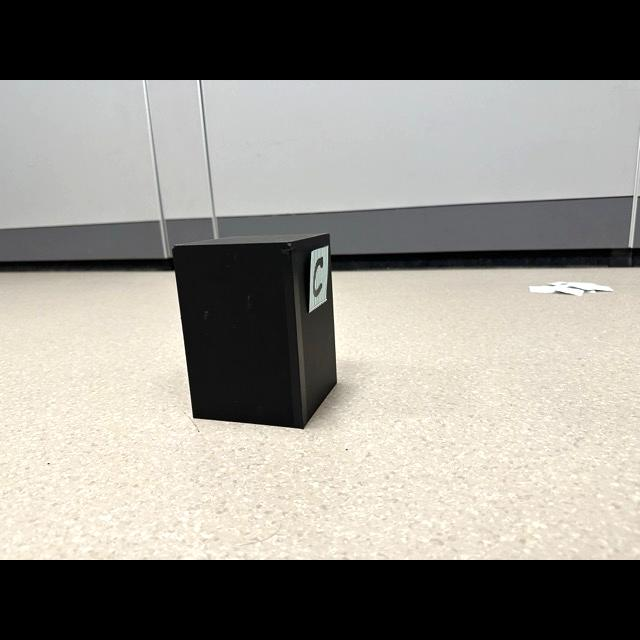C: (313, 257, 323, 297)
